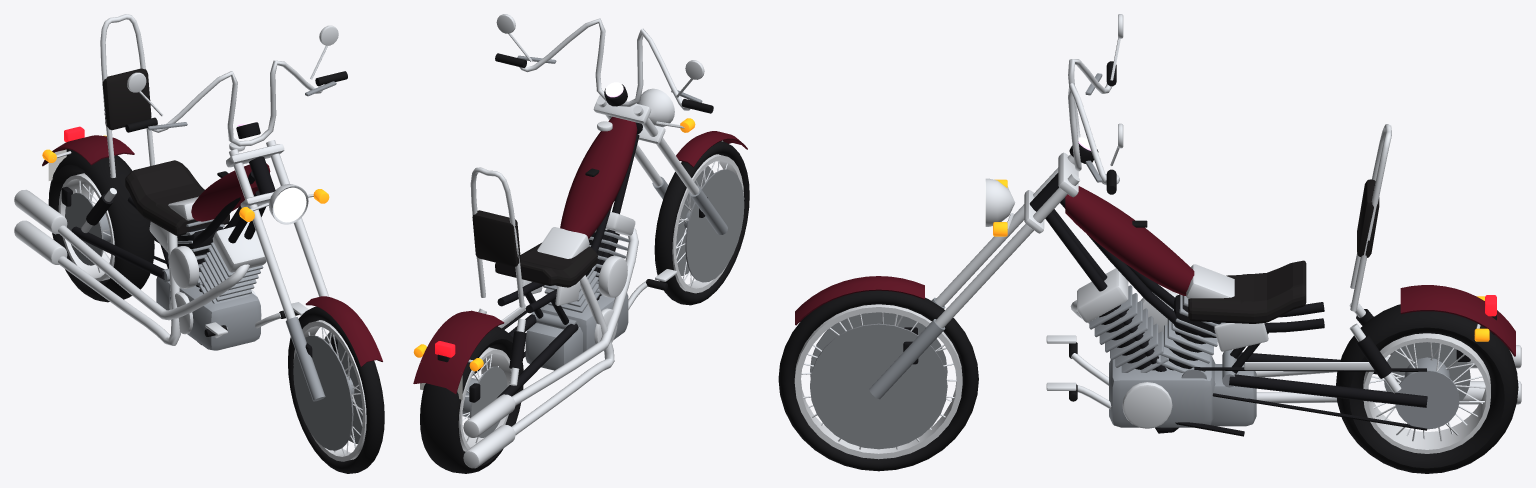
File: iron-serpent-1100.glb
The picture shows the model from 3 angles, left to right: view 1: azimuth 30°, elevation 25°; view 2: azimuth 150°, elevation 25°; view 3: azimuth 270°, elevation 25°; orthographic projection. The views are drawn at different scales.
Visible parts, largest first — view 1: FrontForkMesh, Engine, Exhaust, Rim_F, Seat, Tire_R, Tire_F, Frame, Bodywork, Rim_R, FuelTank, SwingarmMesh (+1 smaller); view 2: FrontForkMesh, Engine, Rim_F, Exhaust, Bodywork, FuelTank, Seat, Tire_R, Tire_F, Frame, Rim_R, SwingarmMesh (+1 smaller); view 3: Rim_F, Engine, FrontForkMesh, Tire_R, SwingarmMesh, Frame, Tire_F, Rim_R, Seat, Bodywork, FuelTank, Exhaust.
Boxes of the visible parts, left/top/right/bottom form: FrontForkMesh: left=125, top=25, right=382, bottom=401; Engine: left=156, top=196, right=266, bottom=350; Exhaust: left=14, top=189, right=249, bottom=345; Rim_F: left=293, top=320, right=366, bottom=461; Seat: left=102, top=68, right=229, bottom=235; Tire_R: left=48, top=151, right=154, bottom=302; Tire_F: left=288, top=306, right=384, bottom=473; Frame: left=81, top=156, right=308, bottom=344; Bodywork: left=42, top=14, right=167, bottom=252; Rim_R: left=58, top=173, right=114, bottom=281; FuelTank: left=191, top=142, right=270, bottom=221; SwingarmMesh: left=61, top=187, right=178, bottom=282; FrontForkMesh: left=495, top=14, right=747, bottom=234; Engine: left=525, top=211, right=635, bottom=370; Rim_F: left=672, top=154, right=744, bottom=293; Exhaust: left=463, top=228, right=638, bottom=468; Bodywork: left=413, top=167, right=580, bottom=393; FuelTank: left=560, top=116, right=637, bottom=238; Seat: left=472, top=210, right=597, bottom=287; Tire_R: left=420, top=326, right=523, bottom=473; Tire_F: left=654, top=141, right=749, bottom=305; Frame: left=478, top=122, right=677, bottom=385; Rim_R: left=458, top=347, right=511, bottom=451; SwingarmMesh: left=469, top=304, right=579, bottom=402; Rim_F: left=794, top=304, right=962, bottom=459; Engine: left=1077, top=264, right=1256, bottom=428; FrontForkMesh: left=795, top=14, right=1123, bottom=399; Tire_R: left=1336, top=304, right=1518, bottom=473; SwingarmMesh: left=1181, top=350, right=1470, bottom=430; Frame: left=1029, top=173, right=1401, bottom=436; Tire_F: left=778, top=290, right=978, bottom=471; Rim_R: left=1363, top=333, right=1490, bottom=453; Seat: left=1188, top=179, right=1379, bottom=323; Bodywork: left=1214, top=124, right=1515, bottom=356; FuelTank: left=1065, top=174, right=1194, bottom=295; Exhaust: left=1070, top=300, right=1521, bottom=404.
Bounding box in the file's own units: 1 × 1.5 × 2.52.
